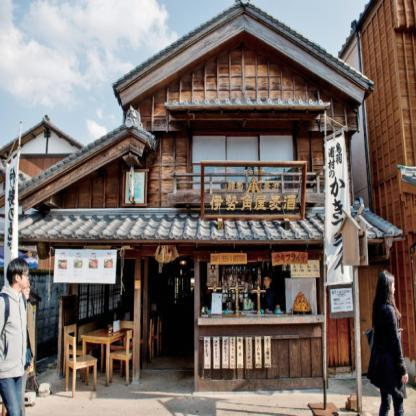Building Outline: (0, 0, 406, 392)
Dont: (324, 110, 373, 414), (0, 121, 35, 416), (365, 269, 410, 416)
Door: (62, 255, 193, 391), (358, 266, 390, 377)
Facade: (129, 88, 350, 391)
Floor Slab: (60, 228, 394, 238)
Ground Floor: (60, 238, 394, 377)
Pillar: (131, 246, 142, 387)
Roof: (112, 0, 374, 106), (0, 196, 399, 238), (12, 104, 158, 198), (164, 98, 331, 107)
Shop: (201, 160, 307, 221), (53, 249, 117, 284), (122, 169, 149, 206), (328, 284, 354, 318), (272, 252, 308, 266), (211, 253, 247, 265), (204, 337, 211, 369), (213, 337, 220, 369), (222, 337, 229, 369), (255, 337, 262, 369), (265, 337, 271, 369), (230, 337, 236, 369), (237, 337, 243, 369), (246, 337, 252, 369)
Top Floor: (129, 88, 350, 227)
Window: (200, 262, 321, 317), (192, 132, 294, 189)
